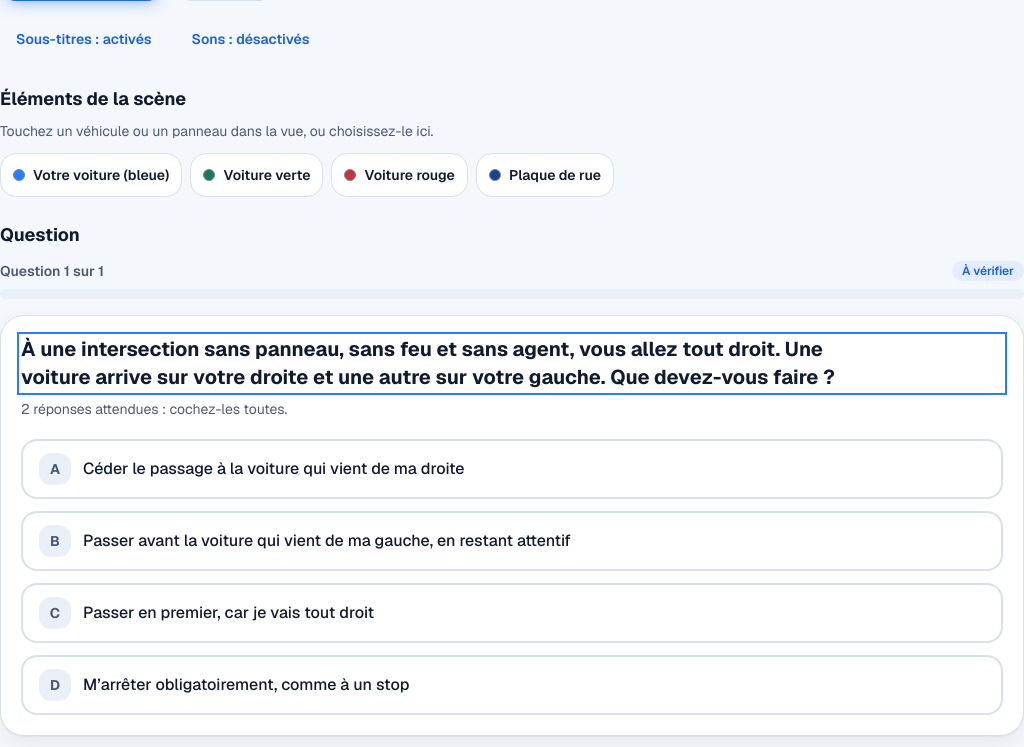
Test case: lecteur de scène › explique l’élément sélectionné
The width and height of the screenshot is (1024, 747).
(page scrolled)
Step 1. Click the button "Voiture verte" → (257, 175), box [190,153,324,197]
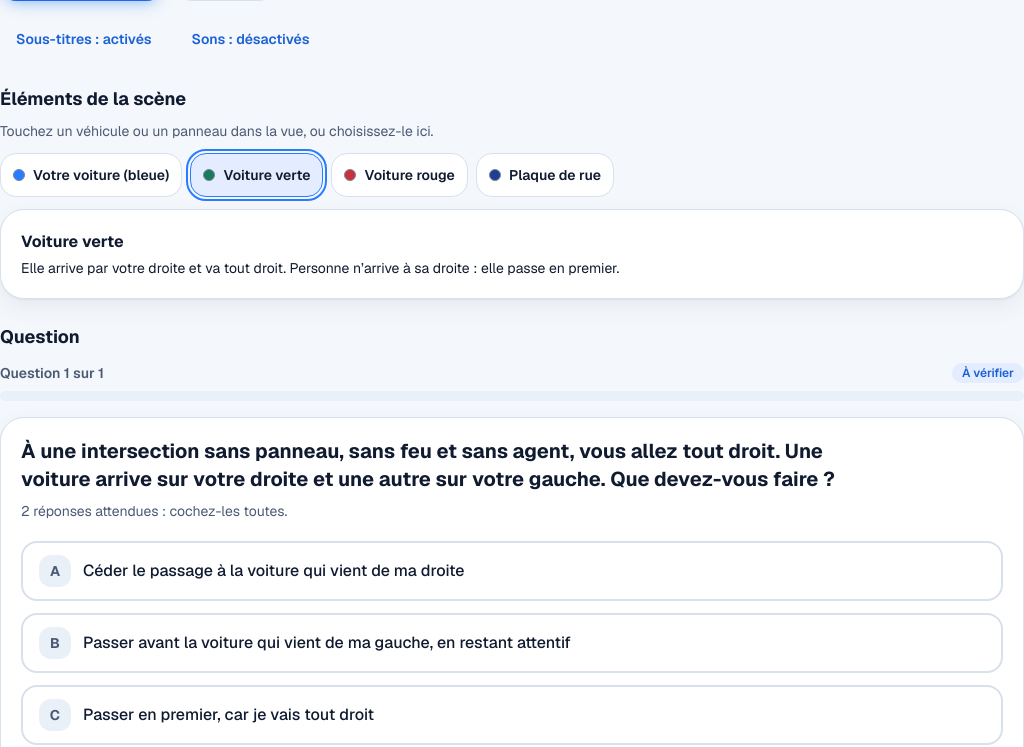
Check: the text "Elle arrive par votre droite" is shown, box [21,259,619,277]
Step 2. Click the button "Plaque de rue" → (545, 175), box [476,153,614,197]
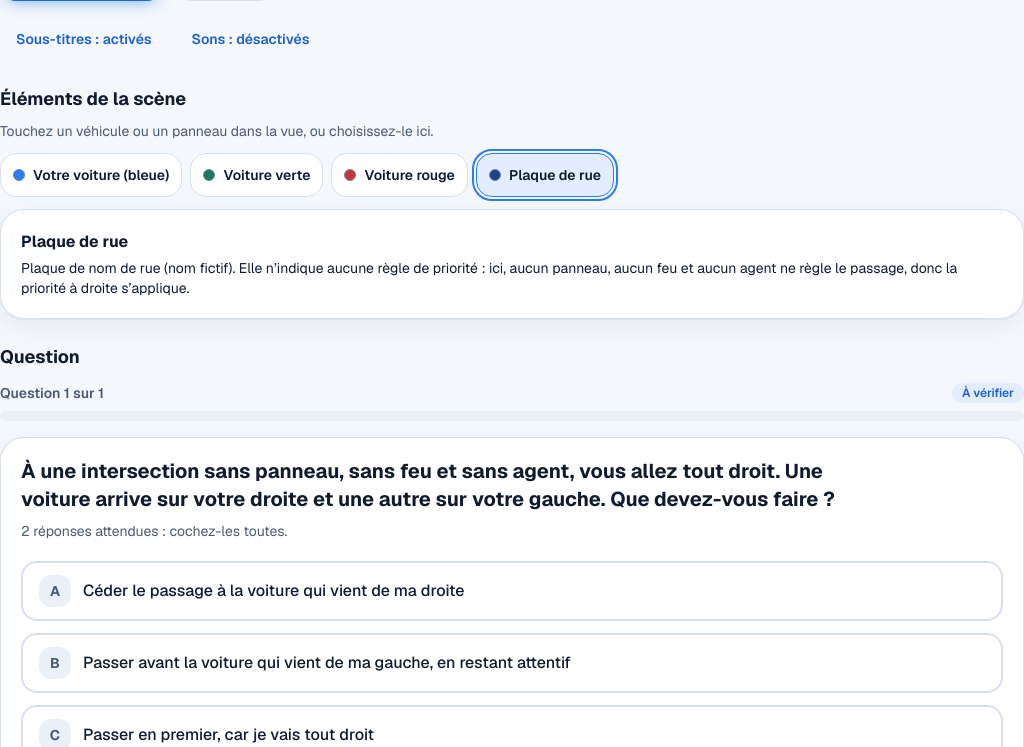
Check: the text "n’indique aucune règle de priorité" is shown, box [21,259,957,297]
Step 3. Click the button "Plaque de rue" → (545, 175), box [476,153,614,197]
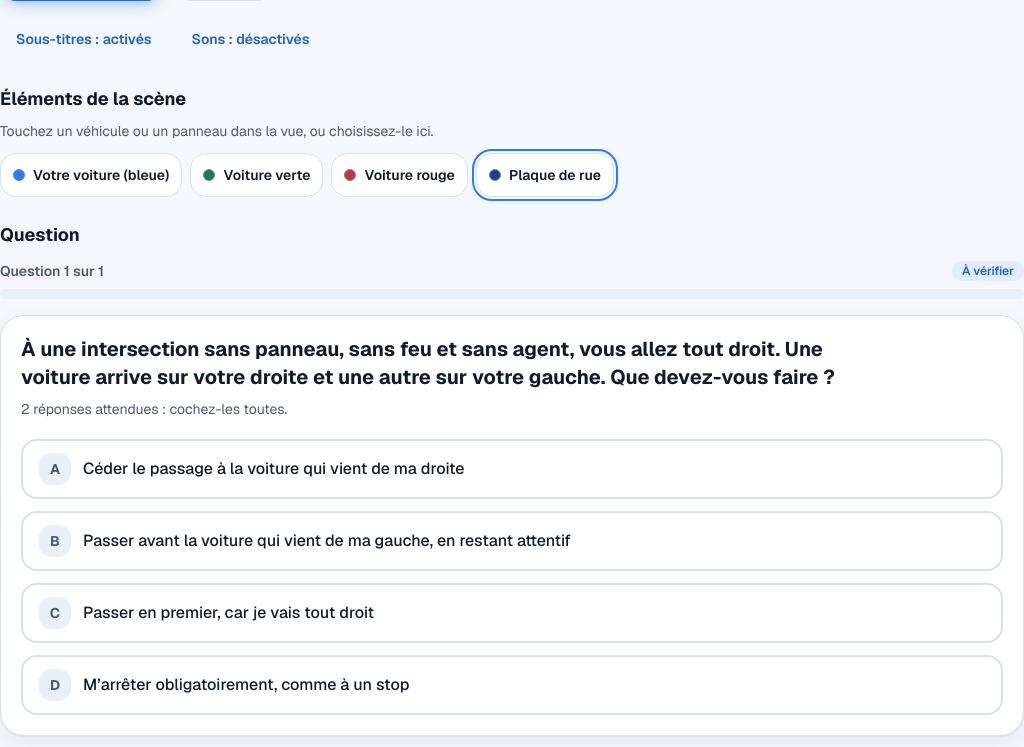
Check: the text "n’indique aucune règle de priorité" is gone
